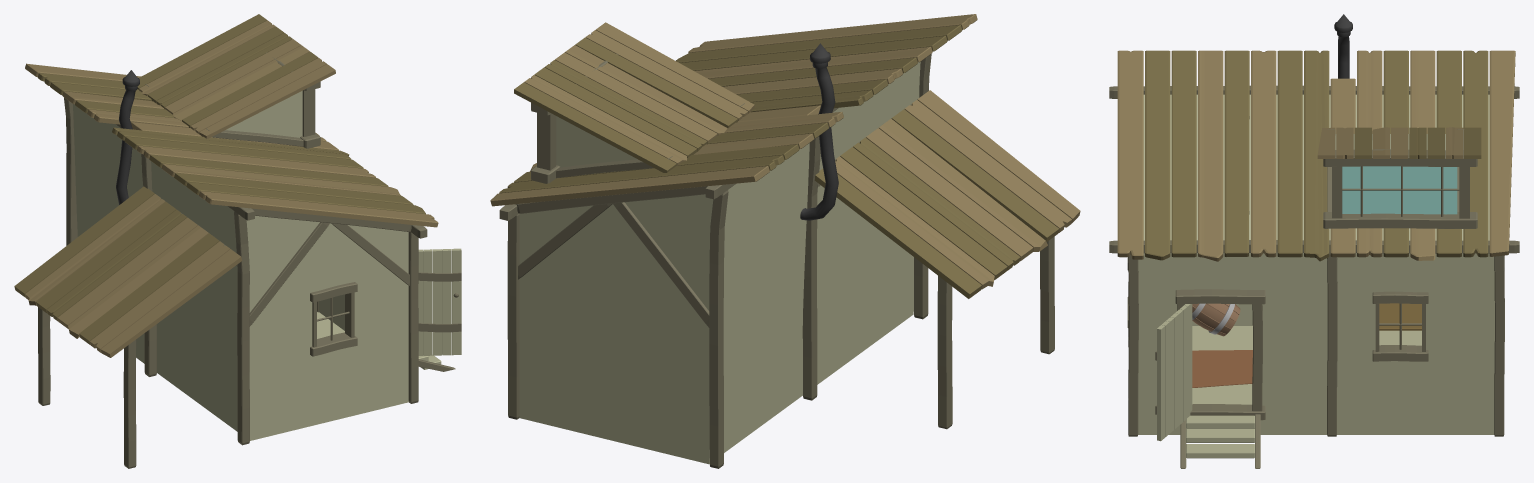
The model's file is House2.1AckSonHali.fbx.
3 views of the same model, side by side, from view 1: azimuth 30°, elevation 25°; view 2: azimuth 150°, elevation 25°; view 3: azimuth 270°, elevation 25° (orthographic). The views are drawn at different scales.
Visible parts, largest first — view 1: Cube.061; view 2: Cube.061; view 3: Cube.061, Cube.063, Circle.001, Plane.001.
Part boxes in pixels (box(x1,y1,x2,y2)): Cube.061: box(14, 14, 461, 468); Cube.061: box(490, 14, 1080, 468); Cube.061: box(1109, 14, 1519, 468); Cube.063: box(1192, 350, 1252, 387); Circle.001: box(1192, 303, 1240, 336); Plane.001: box(1379, 303, 1421, 330).
Bounding box in the file's own units: 1146 × 895 × 1023.
